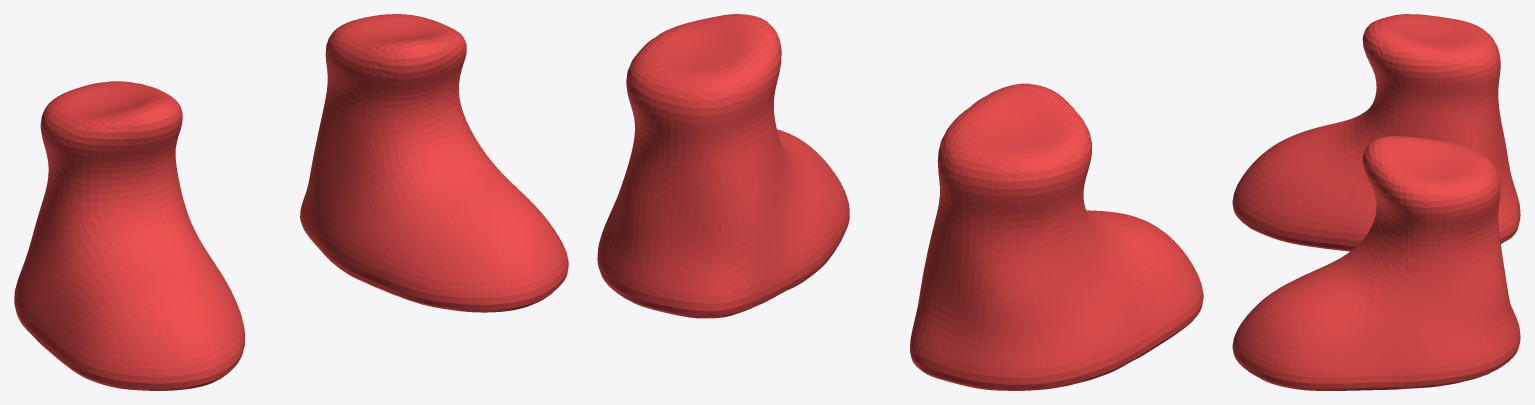
Rendered from SubTool-2-11512011.OBJ.
3 renders of one model, left to right at view 1: azimuth 30°, elevation 25°; view 2: azimuth 150°, elevation 25°; view 3: azimuth 270°, elevation 25°, orthographic. The views are drawn at different scales.
Visible parts, largest first — view 1: ZBrush_defualt_group; view 2: ZBrush_defualt_group; view 3: ZBrush_defualt_group.
Part boxes in pixels (bbox=[...]): ZBrush_defualt_group: bbox=[14, 14, 568, 390]; ZBrush_defualt_group: bbox=[597, 14, 1203, 390]; ZBrush_defualt_group: bbox=[1232, 14, 1520, 390].
Bounding box in the file's own units: 1.25 × 0.5376 × 0.6975.
Materials: 1 (1 with a texture image).
